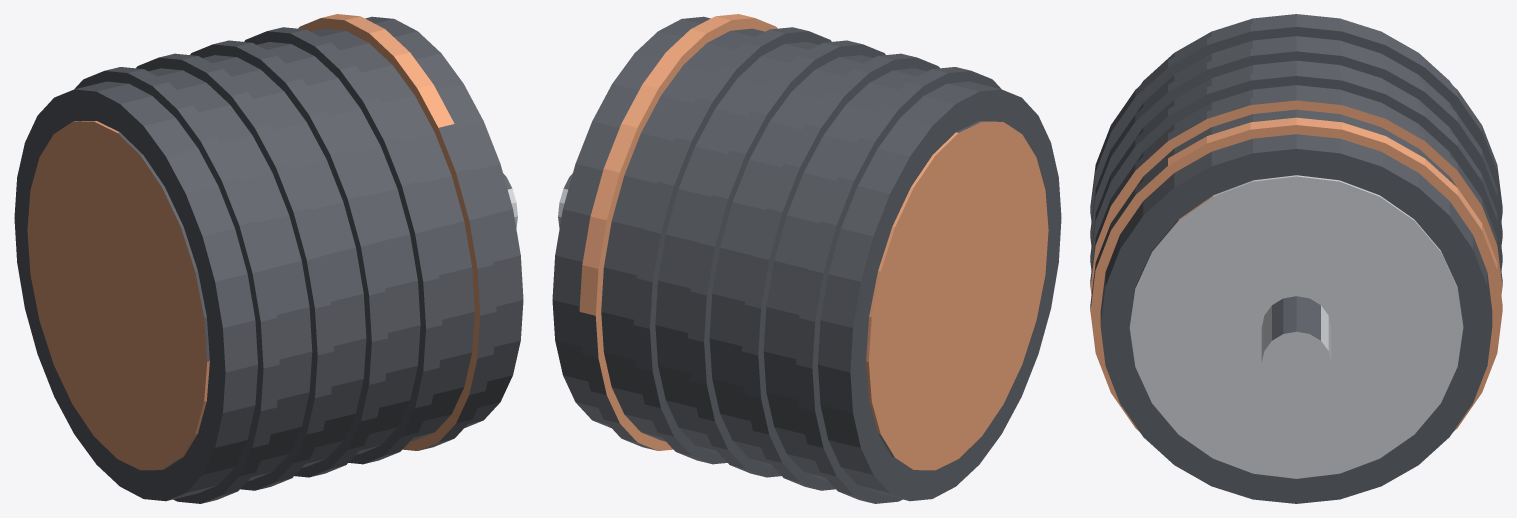
File: edu_motor_assembly.glb
3 views of the same model, side by side, from view 1: azimuth 30°, elevation 25°; view 2: azimuth 150°, elevation 25°; view 3: azimuth 270°, elevation 25° (orthographic). The views are drawn at different scales.
Visible parts, largest first — view 1: EDU_Motor_Assembly; view 2: EDU_Motor_Assembly; view 3: EDU_Motor_Assembly.
Boxes of the visible parts, box(x1,y1,x2,y2) form: EDU_Motor_Assembly: box(14, 14, 523, 503); EDU_Motor_Assembly: box(552, 14, 1061, 503); EDU_Motor_Assembly: box(1090, 14, 1502, 503).
Size of the model in its own units: 0.282 by 0.284 by 0.284.
